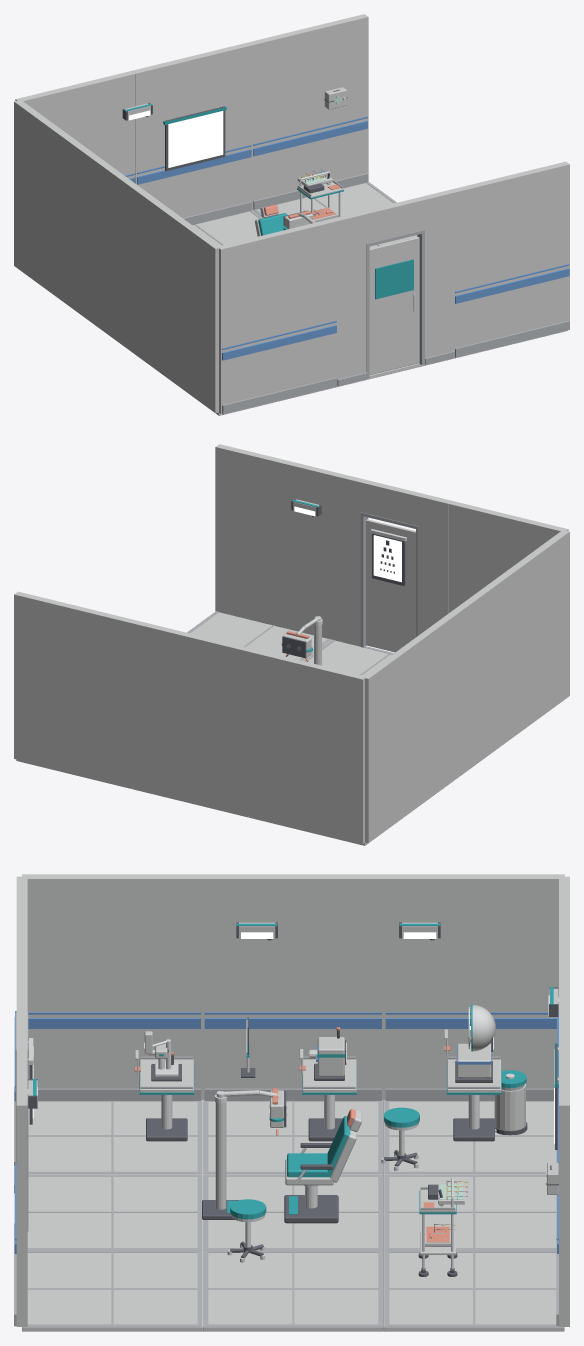
3 renders of one model, top to bottom at view 1: azimuth 30°, elevation 25°; view 2: azimuth 150°, elevation 25°; view 3: azimuth 270°, elevation 25°, orthographic. The views are drawn at different scales.
Parts seen in each view (by area): view 1: 012-consulting-room-wall-module/0, 014-consulting-room-wall-module/0, 011-consulting-room-wall-module/0, 010-consulting-room-wall-module/0, 017-consulting-room-wall-module/0, 016-consulting-room-wall-module/0, 013-consulting-room-door-module/0, 015-consulting-room-wall-module/0, 009-consulting-room-wall-module/0, 013-consulting-room-door-module/door-room/white, 022-test-room-mirror/2, 013-consulting-room-door-module/1 (+12 smaller); view 2: 009-consulting-room-wall-module/0, 010-consulting-room-wall-module/0, 011-consulting-room-wall-module/0, 014-consulting-room-wall-module/0, 015-consulting-room-wall-module/0, 016-consulting-room-wall-module/0, 017-consulting-room-wall-module/0, 013-consulting-room-door-module/0, 012-consulting-room-wall-module/0, 013-consulting-room-door-module/door-room/white, 008-shop-floor-tile/0, 005-shop-floor-tile/0 (+3 smaller); view 3: 016-consulting-room-wall-module/0, 017-consulting-room-wall-module/0, 015-consulting-room-wall-module/0, 008-shop-floor-tile/0, 007-shop-floor-tile/0, 006-shop-floor-tile/0, 005-shop-floor-tile/0, 002-shop-floor-tile/0, 003-shop-floor-tile/0, 000-shop-floor-tile/0, 004-shop-floor-tile/0, 001-shop-floor-tile/0 (+39 smaller).
Boxes of the visible parts, <box> form: 012-consulting-room-wall-module/0: <box>217,218,337,413</box>; 014-consulting-room-wall-module/0: <box>450,161,569,356</box>; 011-consulting-room-wall-module/0: <box>248,14,368,209</box>; 010-consulting-room-wall-module/0: <box>132,42,252,217</box>; 017-consulting-room-wall-module/0: <box>148,198,220,413</box>; 016-consulting-room-wall-module/0: <box>81,149,154,363</box>; 013-consulting-room-door-module/0: <box>334,190,453,379</box>; 015-consulting-room-wall-module/0: <box>14,100,87,314</box>; 009-consulting-room-wall-module/0: <box>15,71,135,183</box>; 013-consulting-room-door-module/door-room/white: <box>369,237,419,374</box>; 022-test-room-mirror/2: <box>168,111,223,167</box>; 013-consulting-room-door-module/1: <box>337,230,454,386</box>; 009-consulting-room-wall-module/0: <box>246,648,366,843</box>; 010-consulting-room-wall-module/0: <box>130,620,249,815</box>; 011-consulting-room-wall-module/0: <box>14,591,133,786</box>; 014-consulting-room-wall-module/0: <box>215,444,335,639</box>; 015-consulting-room-wall-module/0: <box>364,628,435,843</box>; 016-consulting-room-wall-module/0: <box>429,579,502,793</box>; 017-consulting-room-wall-module/0: <box>496,530,569,744</box>; 013-consulting-room-door-module/0: <box>331,472,451,646</box>; 012-consulting-room-wall-module/0: <box>448,501,568,613</box>; 013-consulting-room-door-module/door-room/white: <box>366,519,415,652</box>; 008-shop-floor-tile/0: <box>190,612,331,660</box>; 005-shop-floor-tile/0: <box>306,640,392,675</box>; 016-consulting-room-wall-module/0: <box>203,874,383,1099</box>; 017-consulting-room-wall-module/0: <box>22,874,202,1099</box>; 015-consulting-room-wall-module/0: <box>383,874,564,1099</box>; 008-shop-floor-tile/0: <box>22,1251,202,1331</box>; 007-shop-floor-tile/0: <box>203,1250,383,1331</box>; 006-shop-floor-tile/0: <box>383,1251,564,1331</box>; 005-shop-floor-tile/0: <box>27,1174,202,1250</box>; 002-shop-floor-tile/0: <box>28,1100,202,1174</box>; 003-shop-floor-tile/0: <box>383,1174,556,1250</box>; 000-shop-floor-tile/0: <box>383,1100,556,1174</box>; 004-shop-floor-tile/0: <box>203,1174,383,1250</box>; 001-shop-floor-tile/0: <box>203,1100,383,1174</box>.
Size of the model in its own units: 6.06 by 2.76 by 6.15.
